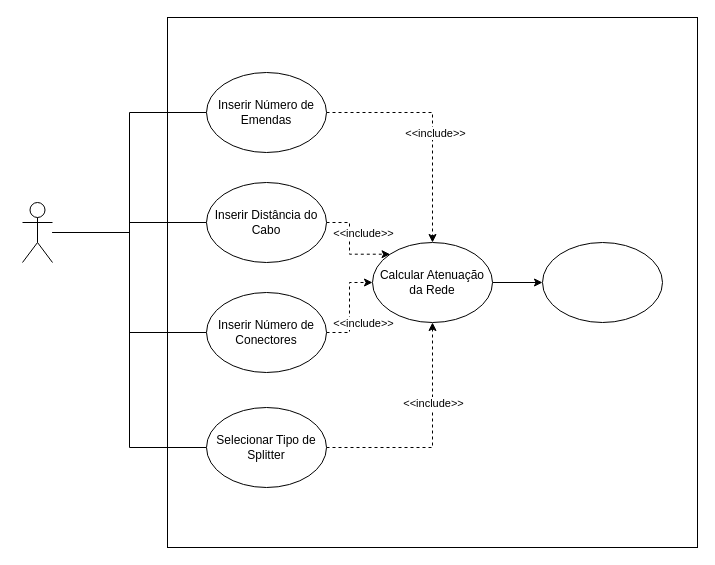
Image size: 715x565. Some labels were removed from this diagram. The shapes that lost their labels are listed below. From the top down, each one's centre as x and y in pixels, then its label:
At point 37,232: "Usuário".
At point 602,282: "Visualizar Resultado".
